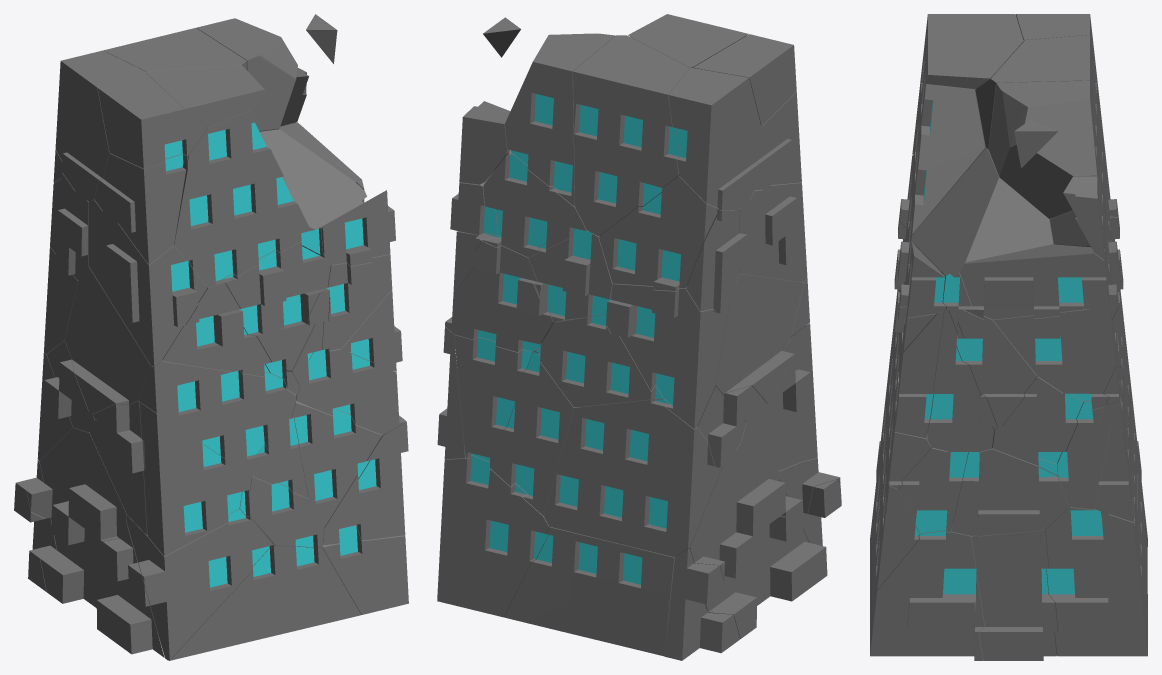
The model's file is LLShatteredCity.fbx.
3 renders of one model, left to right at view 1: azimuth 30°, elevation 25°; view 2: azimuth 150°, elevation 25°; view 3: azimuth 270°, elevation 25°, orthographic. The views are drawn at different scales.
Parts seen in each view (by area): view 1: Cube.002_cell.009, Cube.002_cell.045, Cube.002_cell.030, Cube.002_cell.004, Cube.002_cell.017, Cube.002_cell.013, Cube.002_cell.031, Cube.002_cell.072, Cube.002_cell.055, Cube.002_cell.028, Cube.002_cell.039, Cube.002_cell.029 (+26 smaller); view 2: Cube.002_cell.038, Cube.002_cell.076, Cube.002_cell.005, Cube.002_cell.024, Cube.002_cell.036, Cube.002_cell.028, Cube.002_cell.045, Cube.002_cell.027, Cube.002_cell.066, Cube.002_cell.002, Cube.002_cell.055, Cube.002_cell.067 (+21 smaller); view 3: Cube.002_cell.024, Cube.002_cell.014, Cube.002_cell.027, Cube.002_cell.006, Cube.002_cell.060, Cube.002_cell.034, Cube.002_cell.012, Cube.002_cell.049, Cube.002_cell.009, Cube.002_cell.018, Cube.002_cell.076, Cube.002_cell.070 (+27 smaller).
Part boxes in pixels (x1,y1,x2,y2): Cube.002_cell.009: (174, 110, 308, 287); Cube.002_cell.045: (27, 427, 134, 604); Cube.002_cell.030: (139, 360, 296, 476); Cube.002_cell.004: (168, 546, 360, 660); Cube.002_cell.017: (127, 509, 274, 660); Cube.002_cell.013: (138, 401, 251, 556); Cube.002_cell.031: (84, 199, 207, 366); Cube.002_cell.072: (221, 241, 330, 378); Cube.002_cell.055: (65, 265, 151, 419); Cube.002_cell.028: (55, 50, 146, 201); Cube.002_cell.039: (97, 72, 207, 168); Cube.002_cell.029: (94, 153, 188, 264); Cube.002_cell.038: (544, 399, 722, 557); Cube.002_cell.076: (573, 35, 689, 236); Cube.002_cell.005: (504, 527, 707, 656); Cube.002_cell.024: (437, 446, 549, 617); Cube.002_cell.036: (606, 283, 728, 429); Cube.002_cell.028: (668, 68, 761, 210); Cube.002_cell.045: (689, 444, 787, 638); Cube.002_cell.027: (505, 33, 615, 206); Cube.002_cell.066: (599, 176, 719, 290); Cube.002_cell.002: (445, 241, 554, 352); Cube.002_cell.055: (715, 273, 803, 421); Cube.002_cell.067: (490, 352, 579, 515); Cube.002_cell.024: (1044, 499, 1147, 656); Cube.002_cell.014: (870, 525, 984, 660); Cube.002_cell.027: (988, 80, 1103, 218); Cube.002_cell.006: (911, 148, 1053, 310); Cube.002_cell.060: (971, 529, 1057, 660); Cube.002_cell.034: (959, 244, 1109, 319); Cube.002_cell.012: (993, 290, 1117, 409); Cube.002_cell.049: (951, 448, 1068, 535); Cube.002_cell.009: (908, 70, 986, 241); Cube.002_cell.018: (927, 309, 996, 451); Cube.002_cell.076: (975, 35, 1106, 213); Cube.002_cell.070: (948, 309, 1036, 430).
Bounding box in the file's own units: 108 × 200 × 96.
